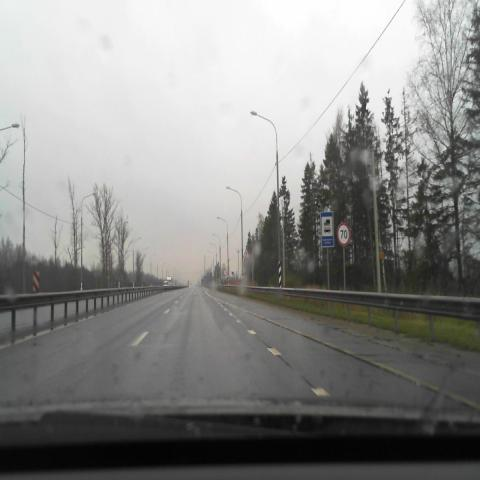3_24: (337, 222, 350, 246)
7_14: (320, 211, 334, 247)
